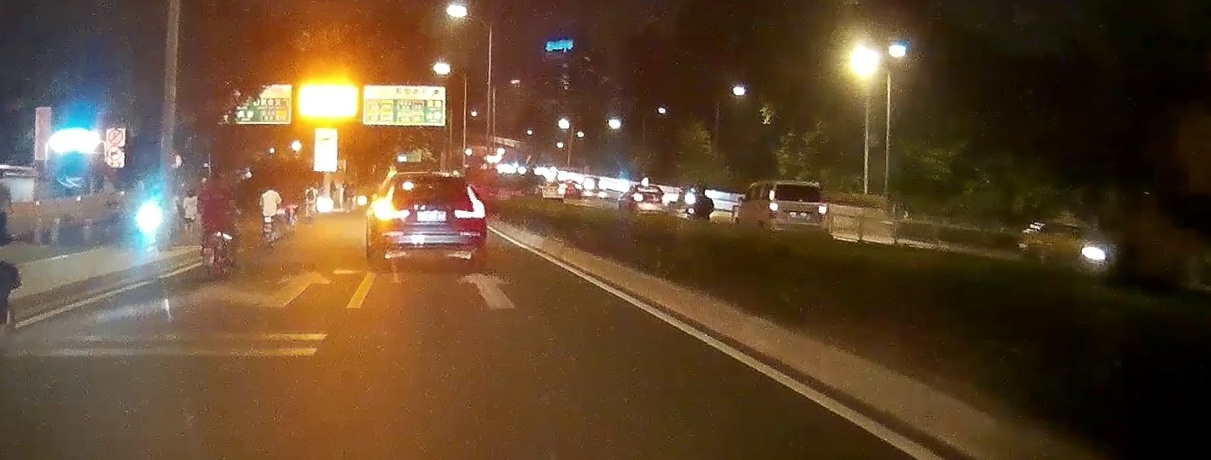L_light: (378, 186, 409, 219), (770, 202, 778, 219)
R_light: (454, 186, 485, 218), (819, 205, 827, 221)
T_light: (420, 177, 436, 181), (795, 185, 804, 188)
night-left: (373, 172, 486, 258)
night-no: (768, 182, 829, 233)
